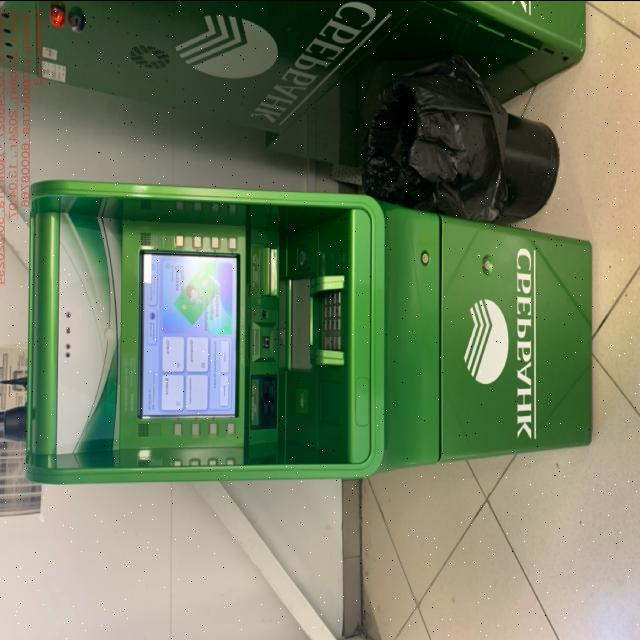bank: (28, 183, 592, 484), (0, 0, 581, 163)
